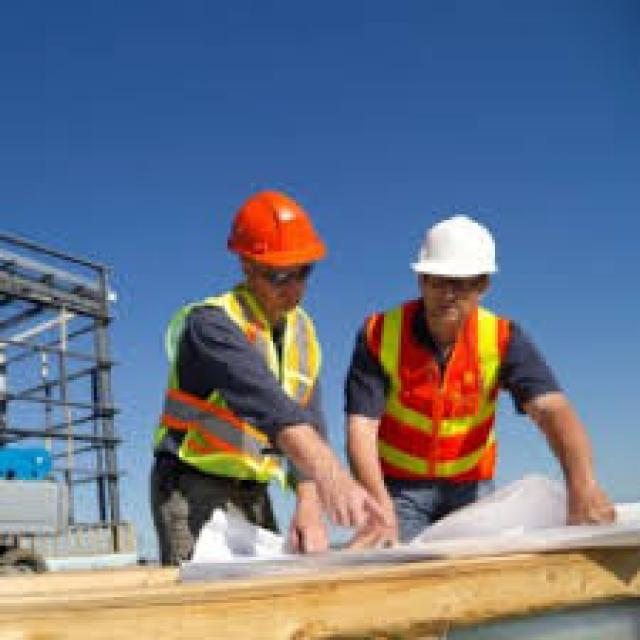Reflective-Jacket: (137, 288, 324, 492), (356, 303, 526, 497)
Safety-Helmet: (214, 183, 338, 283), (404, 208, 506, 288)
